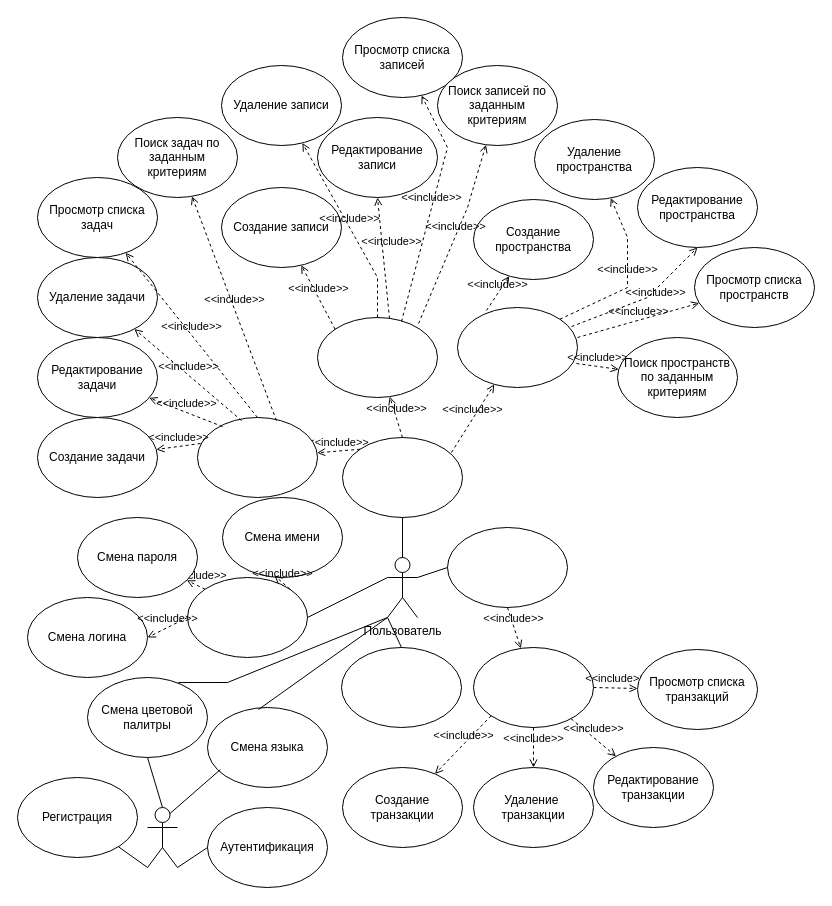
Some shapes in this 832 by 906 pixel diagram are drawn without their labels. Here are the shapes that lost their labels. From the top down, the box of each, then its label:
(316, 316, 438, 398): Управление записями
(456, 306, 578, 388): Управление пространствами
(196, 416, 318, 498): Управление задачами
(342, 436, 462, 518): Управление ежедневником
(446, 526, 568, 608): Управление финансовым трекером
(186, 576, 308, 658): Управление профилем
(340, 646, 462, 728): Выход из приложения
(472, 646, 594, 728): Управление транзакциями
(146, 806, 178, 868): Гость
